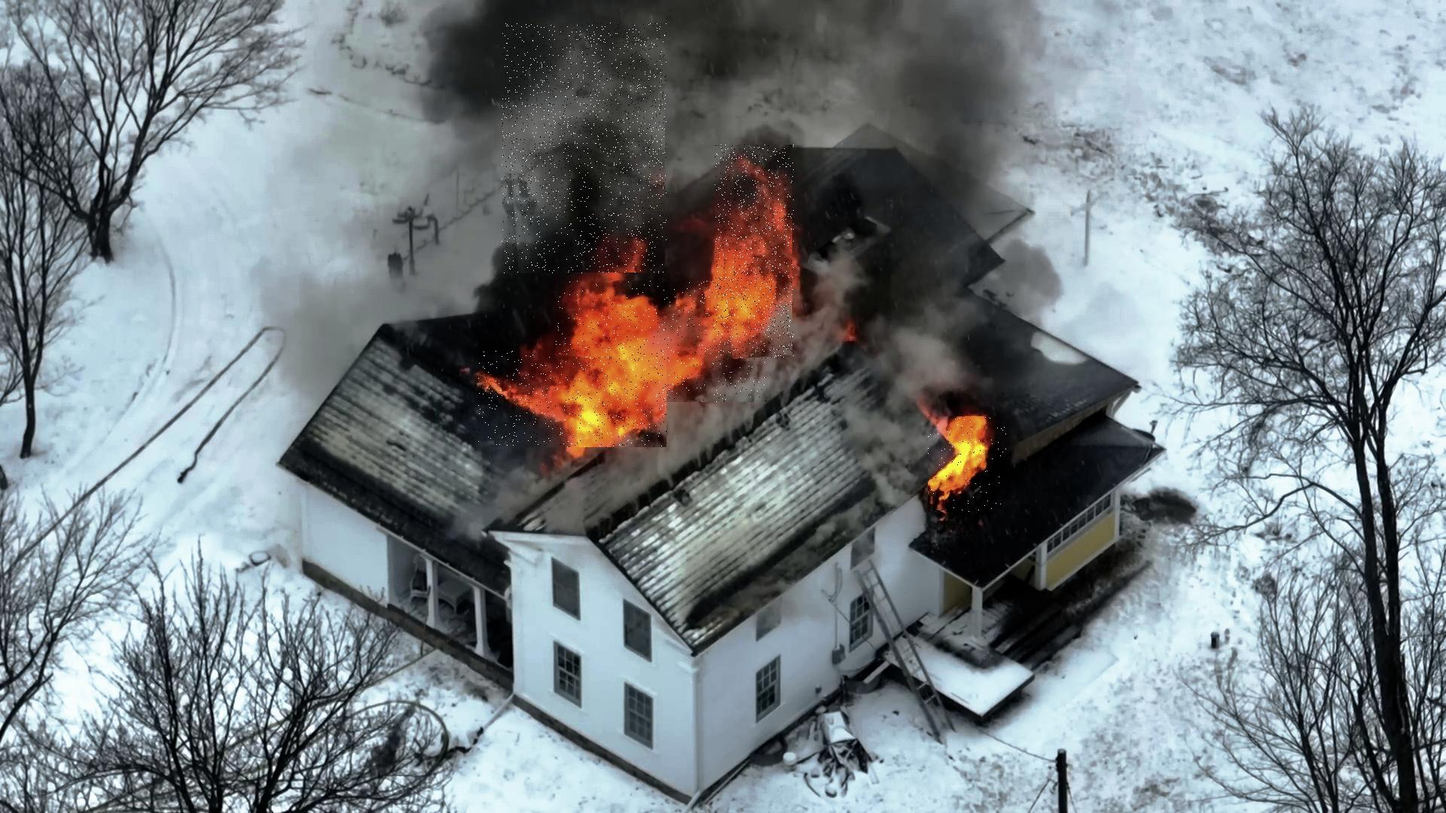fire: (556, 281, 769, 402), (478, 350, 667, 448), (715, 145, 795, 359), (929, 416, 1007, 512)
smoke: (502, 23, 667, 273)
